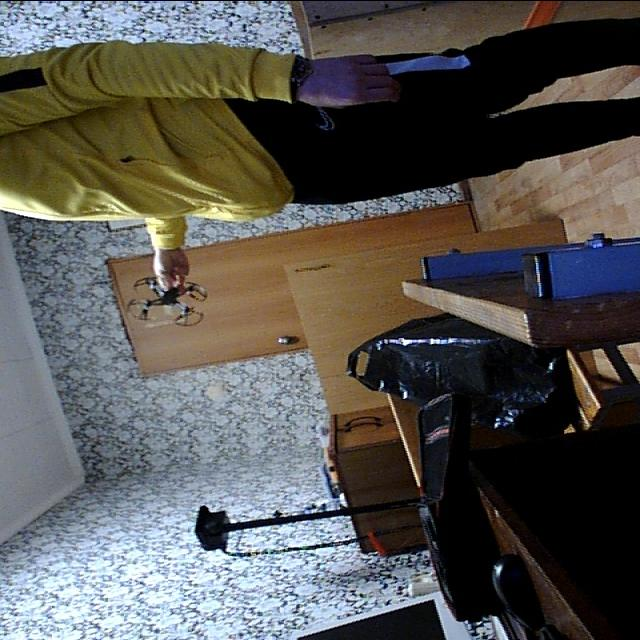drone: (116, 264, 218, 324)
